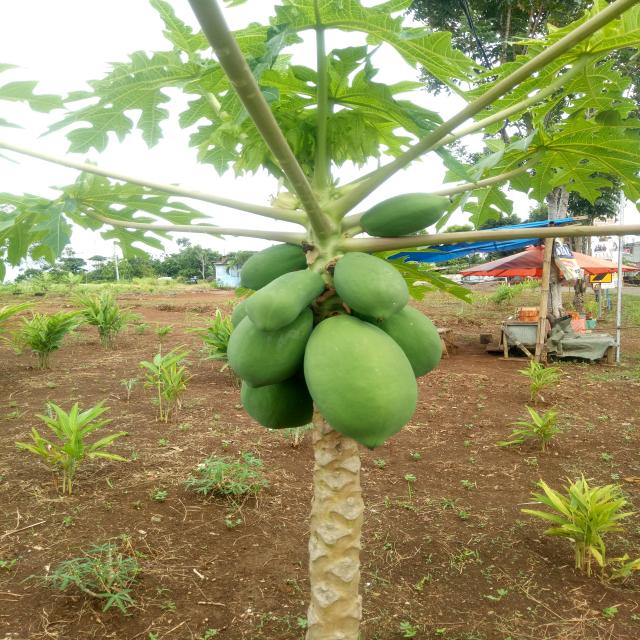Pepaya unrippen: (304, 324, 423, 453), (336, 251, 410, 323), (252, 268, 324, 336), (227, 332, 303, 381), (363, 193, 447, 235), (235, 392, 304, 434)
